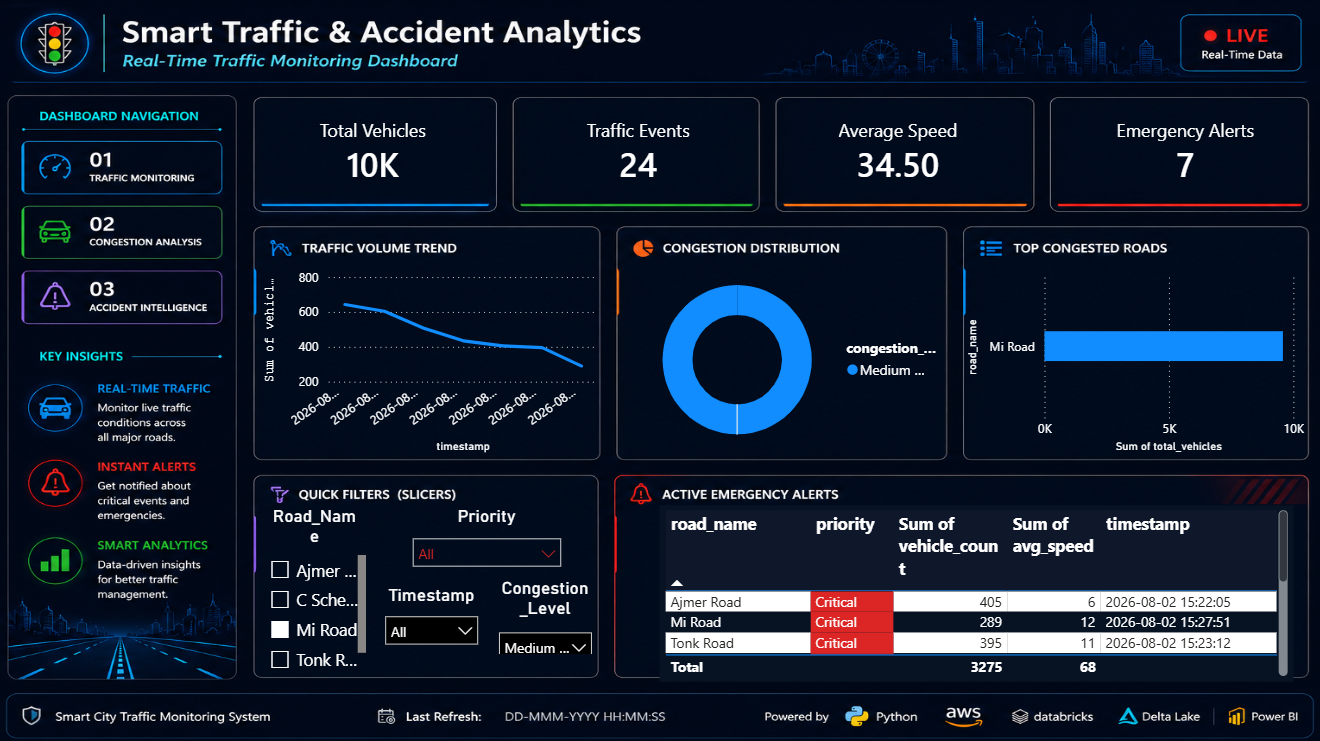

The dashboard page shown, as its layout file describes it:
{"tool":"powerbi","page":{"name":"Executive Traffic Monitoring Dashboard","canvas":[1280,720],"ordinal":0},"visuals":[{"type":"cardVisual","title":"Total Vehicles","fields":{"Data":["Table.Total Vehicles"]},"box":[252.5,102.5,221.2,90],"z":1000},{"type":"cardVisual","fields":{"Data":["Table.Traffic Events"]},"box":[513.8,102.5,210,90],"z":2000},{"type":"cardVisual","fields":{"Data":["Table.Average Speed"]},"box":[766.2,102.5,207.5,90],"z":3000},{"type":"cardVisual","fields":{"Data":["Table.Emergency Alerts"]},"box":[1027.5,102.5,238.8,90],"z":4000},{"type":"lineChart","fields":{"Category":["gold_emergency_alerts.timestamp"],"Y":["Sum(gold_emergency_alerts.vehicle_count)"]},"box":[252.5,255,332.5,188.8],"z":5000},{"type":"donutChart","fields":{"Category":["gold_congestion_analysis.congestion_level"],"Y":["Sum(gold_congestion_analysis.total_events)","Table.Total Events congestion"]},"box":[605,253.8,311.2,190],"z":6000},{"type":"clusteredBarChart","fields":{"Category":["gold_accident_hotspots.road_name"],"Y":["Sum(gold_congestion_analysis.total_vehicles)"]},"box":[931.2,255,335,188.8],"z":7000},{"type":"tableEx","title":"🚨 Active Emergency Alerts","fields":{"Values":["gold_emergency_alerts.road_name","gold_emergency_alerts.priority","Sum(gold_emergency_alerts.vehicle_count)","Sum(gold_emergency_alerts.avg_speed)","gold_emergency_alerts.timestamp"]},"box":[639.4,488.6,611.7,170.1],"z":8000},{"type":"slicer","title":"Road_Name","fields":{"Values":["gold_congestion_analysis.road_name"]},"box":[252.5,488.8,108.8,170],"z":9000},{"type":"slicer","title":"Congestion_Level","fields":{"Values":["gold_congestion_analysis.congestion_level"]},"box":[473.8,558.8,110,73.8],"z":10000},{"type":"slicer","title":"Priority","fields":{"Values":["gold_emergency_alerts.priority"]},"box":[391.2,488.8,163.8,70],"z":11000},{"type":"slicer","title":"Timestamp","fields":{"Values":["gold_emergency_alerts.timestamp"]},"box":[363.8,565,110,62.5],"z":12000}]}

Visuals, with their boxes in screenshot pixels (x1, y1, x2, y2), scaled from the page's 1280x720 canvas onto the 1320x741 screenshot:
"Total Vehicles" cardVisual: Rect(260, 105, 489, 198)
cardVisual - Table.Traffic Events: Rect(530, 105, 746, 198)
cardVisual - Table.Average Speed: Rect(790, 105, 1004, 198)
cardVisual - Table.Emergency Alerts: Rect(1060, 105, 1306, 198)
lineChart - gold_emergency_alerts.timestamp x Sum(gold_emergency_alerts.vehicle_count): Rect(260, 262, 603, 457)
donutChart - gold_congestion_analysis.congestion_level x Sum(gold_congestion_analysis.total_events): Rect(624, 261, 945, 457)
clusteredBarChart - gold_accident_hotspots.road_name x Sum(gold_congestion_analysis.total_vehicles): Rect(960, 262, 1306, 457)
"🚨 Active Emergency Alerts" tableEx: Rect(659, 503, 1290, 678)
"Road_Name" slicer: Rect(260, 503, 373, 678)
"Congestion_Level" slicer: Rect(489, 575, 602, 651)
"Priority" slicer: Rect(403, 503, 572, 575)
"Timestamp" slicer: Rect(375, 581, 489, 646)
